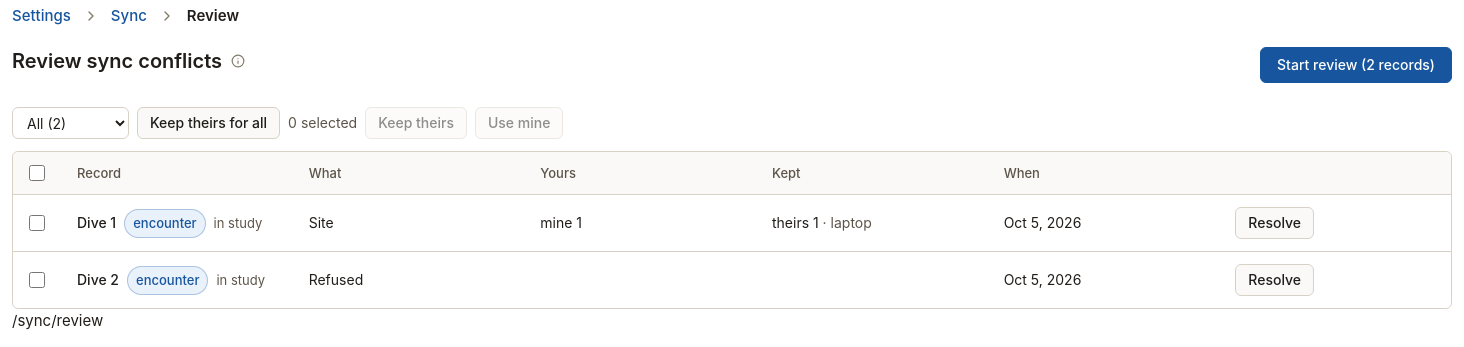
Test case: SyncReviewPage › only counts the rows that offer an action
Click the checkbox named "Select all". click: (37, 173)
box: [29,165,45,181]
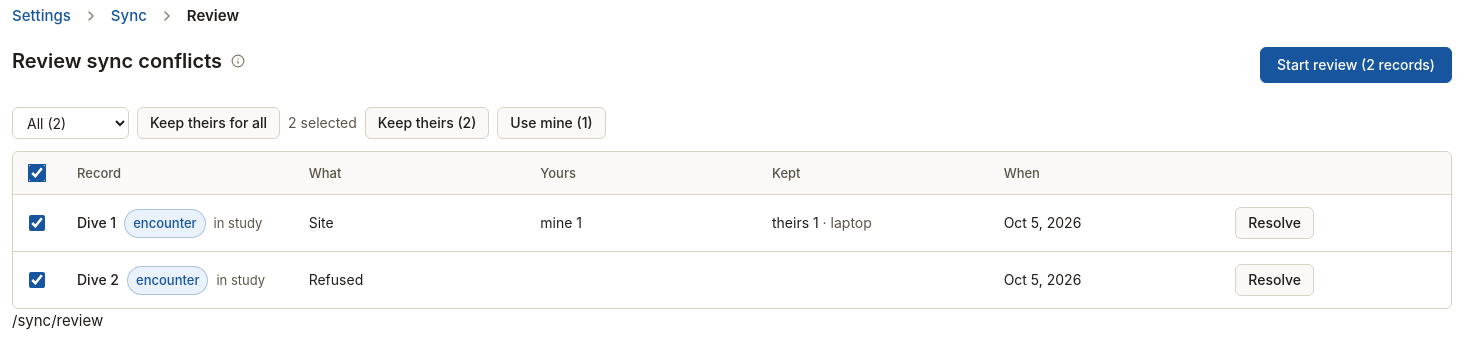
Check: the button "Use mine (1)" is enabled, box [497,107,606,139]
